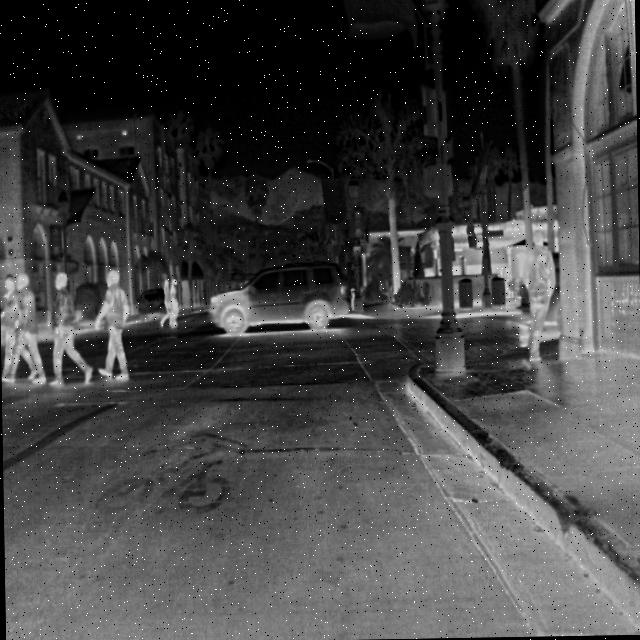Pedestrian: (44, 271, 96, 389), (518, 229, 556, 362), (92, 264, 130, 382), (12, 273, 40, 387), (0, 270, 19, 384), (158, 276, 175, 328), (168, 276, 179, 328)
Vehicle: (205, 256, 352, 337)
